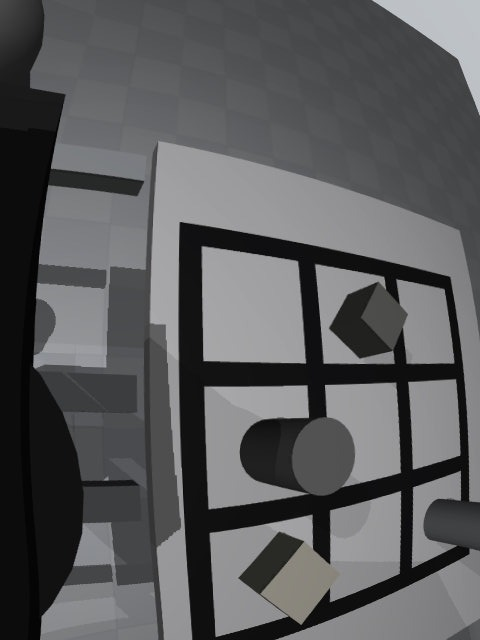can: (423, 499, 480, 551)
cube: (330, 281, 408, 358)
cylinder: (240, 417, 355, 496)
foam: (238, 531, 340, 625)
